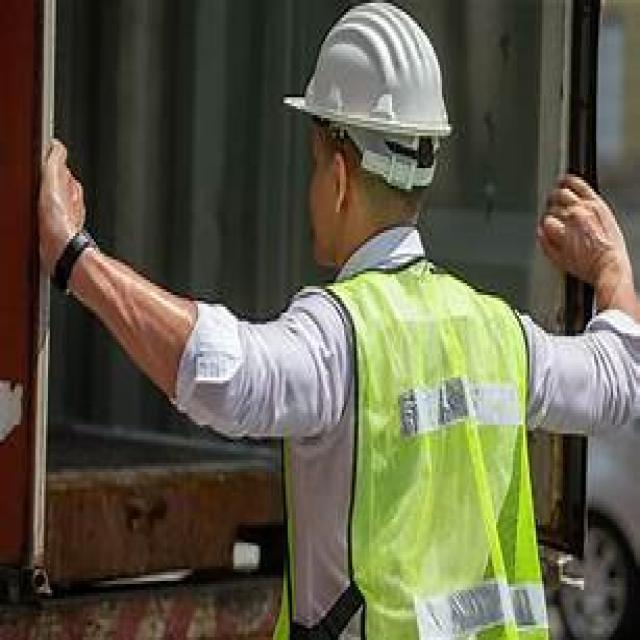not-gloved: (33, 127, 113, 286), (542, 170, 634, 298)
